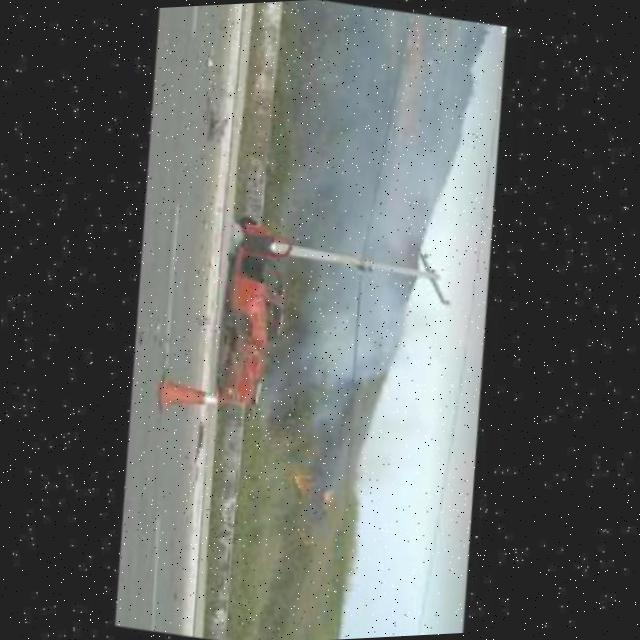fire: (236, 163, 440, 457)
